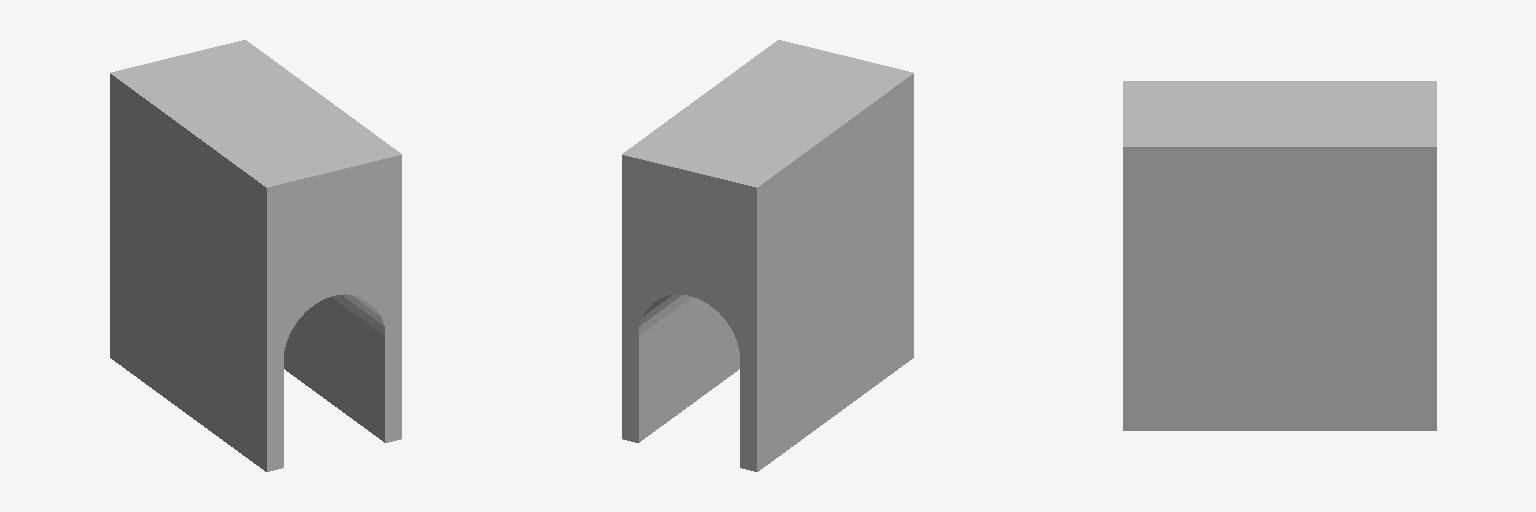
The model's file is straight_hall.obj.
The picture shows the model from 3 angles: view 1: azimuth 30°, elevation 25°; view 2: azimuth 150°, elevation 25°; view 3: azimuth 270°, elevation 25°; orthographic projection.
Parts seen in each view (by area): view 1: Cube.001; view 2: Cube.001; view 3: Cube.001.
Part boxes in pixels (x1,y1,x2,y2): Cube.001: (110,40,401,471); Cube.001: (622,40,913,471); Cube.001: (1123,81,1436,430).
Size of the model in its own units: 4 by 8 by 8.